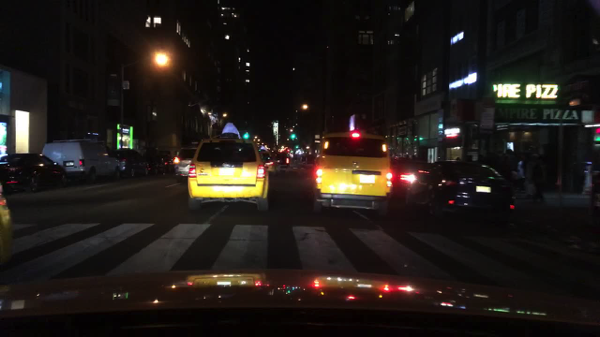car: (311, 128, 395, 219), (405, 161, 518, 227), (186, 136, 271, 213), (40, 140, 119, 183), (0, 152, 70, 194), (390, 162, 433, 191), (114, 148, 147, 176), (175, 147, 204, 177), (145, 151, 162, 174), (258, 151, 274, 172), (274, 152, 293, 169), (161, 154, 177, 174), (296, 154, 316, 169)
person: (532, 162, 546, 202)
traffic light: (244, 134, 249, 138), (291, 135, 296, 139)
